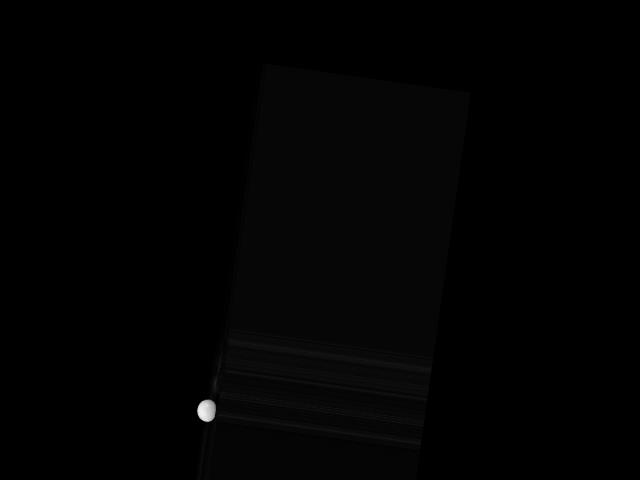egg: (195, 397, 217, 422)
